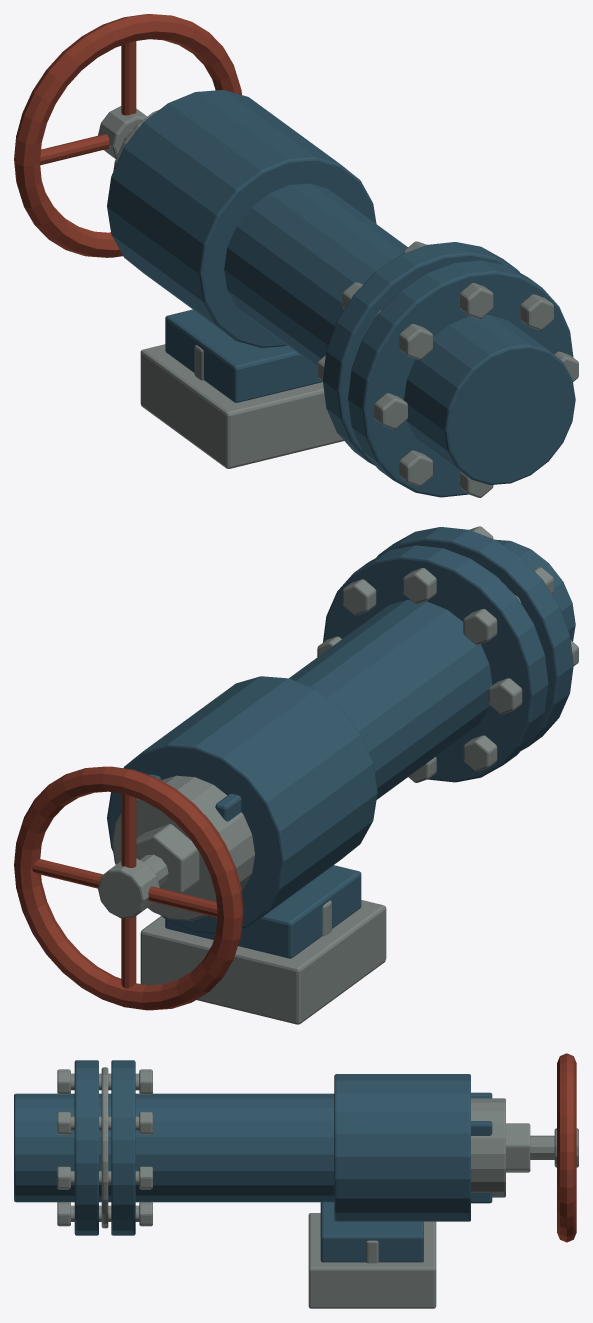
The model's file is l2-service-valve-high.glb.
The picture shows the model from 3 angles, top to bottom: view 1: azimuth 30°, elevation 25°; view 2: azimuth 150°, elevation 25°; view 3: azimuth 270°, elevation 25°; orthographic projection. The views are drawn at different scales.
Visible parts, largest first — view 1: L2V_export_L2 valve blue enamel.001, L2V_export_L2 valve steel.001, L2V_export_L2 valve red wheel.001; view 2: L2V_export_L2 valve blue enamel.001, L2V_export_L2 valve steel.001, L2V_export_L2 valve red wheel.001; view 3: L2V_export_L2 valve blue enamel.001, L2V_export_L2 valve steel.001, L2V_export_L2 valve red wheel.001.
Boxes of the visible parts, box(x1,y1,x2,y2) form: L2V_export_L2 valve blue enamel.001: box(107, 90, 575, 497); L2V_export_L2 valve steel.001: box(98, 106, 578, 497); L2V_export_L2 valve red wheel.001: box(14, 14, 241, 257); L2V_export_L2 valve blue enamel.001: box(107, 527, 575, 958); L2V_export_L2 valve steel.001: box(98, 526, 578, 1024); L2V_export_L2 valve red wheel.001: box(14, 766, 243, 1010); L2V_export_L2 valve blue enamel.001: box(14, 1060, 492, 1262); L2V_export_L2 valve steel.001: box(57, 1067, 578, 1308); L2V_export_L2 valve red wheel.001: box(557, 1053, 576, 1242).
Bounding box in the file's own units: 0.624 × 0.797 × 1.86.
